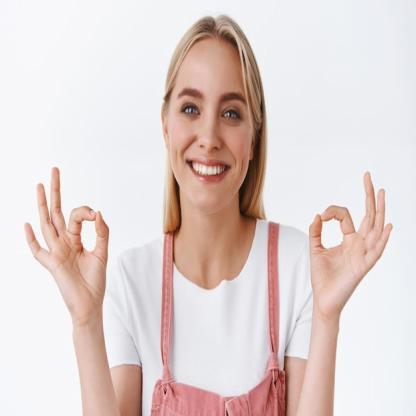ok: (21, 161, 114, 326), (306, 166, 395, 310)
